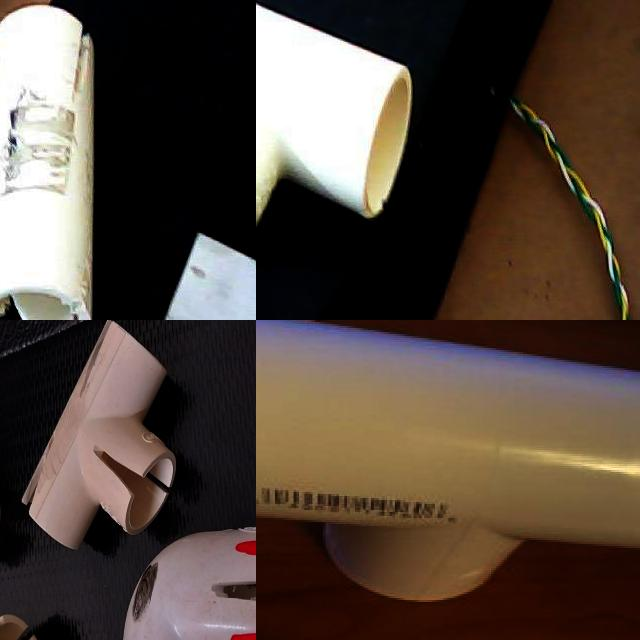Defective: (0, 76, 86, 209), (55, 9, 104, 101), (0, 281, 98, 320), (115, 534, 171, 592), (37, 571, 79, 640), (21, 348, 41, 408)
L Joint: (0, 320, 60, 447)
T Joint: (256, 320, 640, 605), (256, 2, 415, 233), (0, 463, 172, 640), (0, 5, 96, 320)
